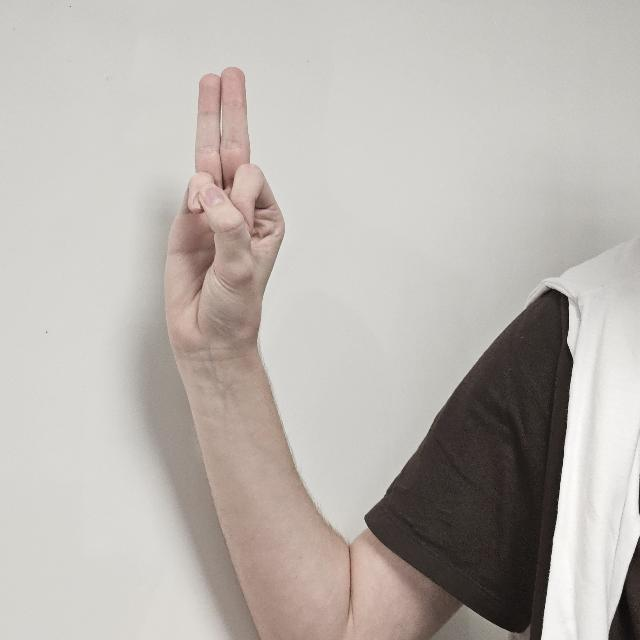R: (168, 68, 284, 384)
